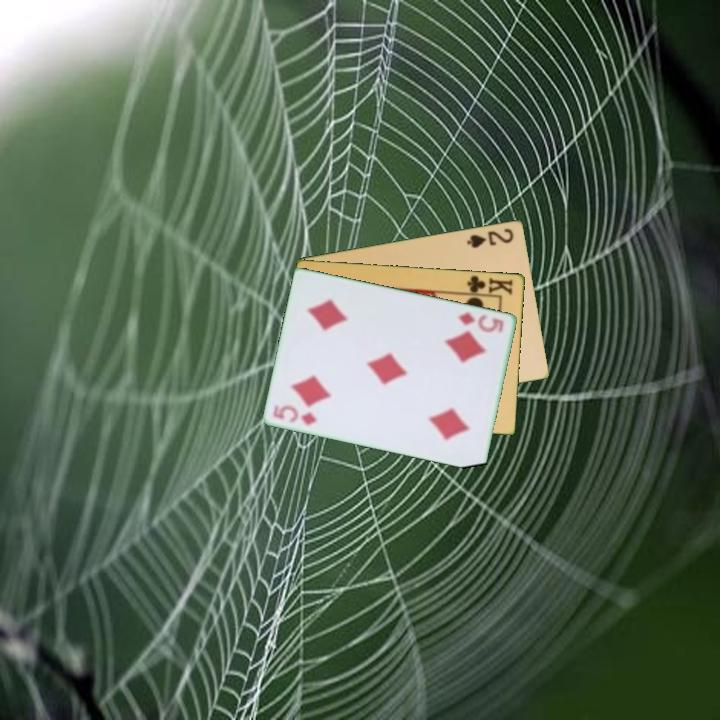2s: (464, 224, 517, 251)
5d: (454, 309, 507, 335), (270, 401, 320, 428)
Kc: (461, 271, 516, 298)
